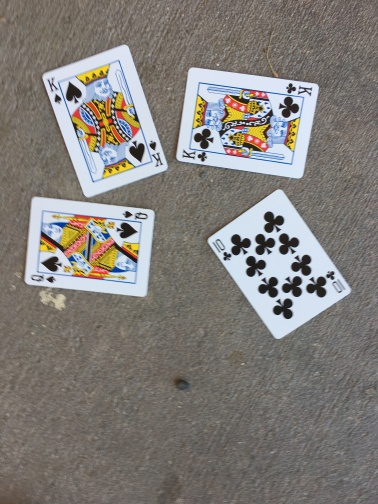king: (42, 44, 169, 195), (175, 66, 320, 182)
queen: (24, 196, 157, 297)
ten: (208, 190, 350, 338)
